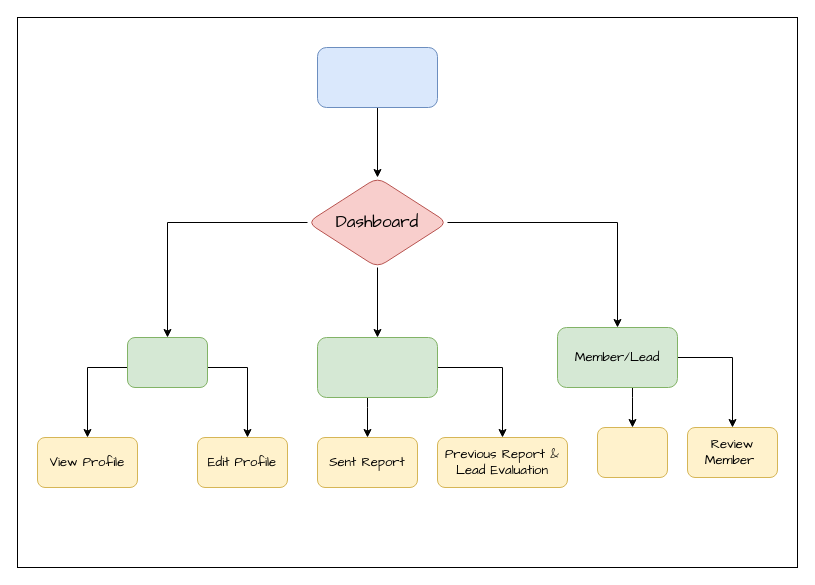
This 815x585 diagram has some shape labels left out. The shapes that lost their labels are listed below. From the top down, each one's box as (x1, y1, x2, y2) in pixels, then its label:
(316, 46, 438, 108): User loggedIn successfully
(126, 336, 208, 388): Profile
(316, 336, 438, 398): Report
(596, 426, 668, 478): Review Report
